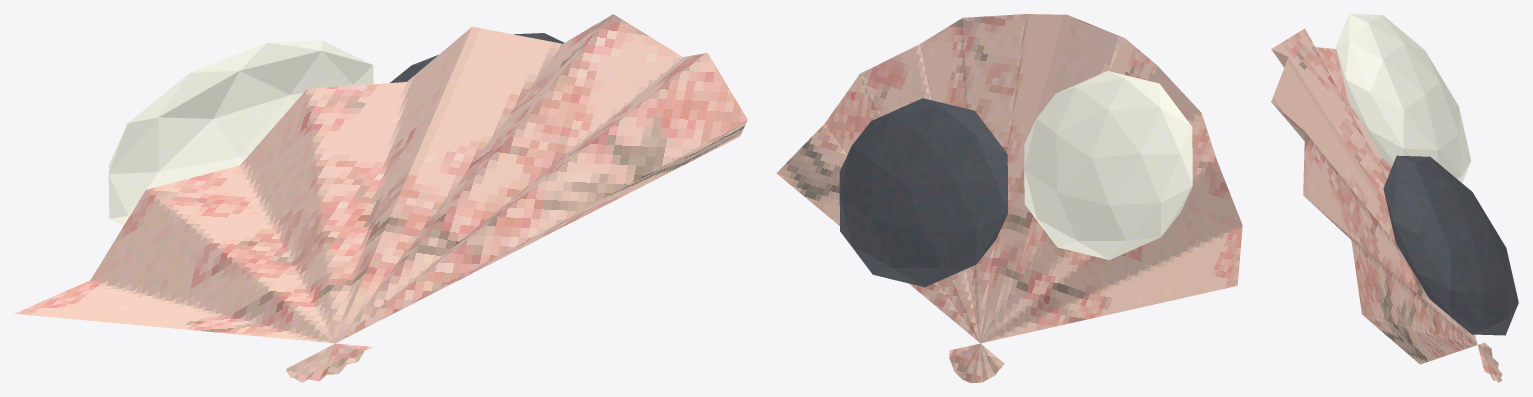
File: ps2_save-icons_saikyounoigo2.glb
3 renders of one model, left to right at view 1: azimuth 30°, elevation 25°; view 2: azimuth 150°, elevation 25°; view 3: azimuth 270°, elevation 25°, orthographic. The views are drawn at different scales.
Visible parts, largest first — view 1: icon1.ico; view 2: icon1.ico; view 3: icon1.ico.
Boxes of the visible parts, x1,y1,x2,y2 form: icon1.ico: [14, 14, 747, 382]; icon1.ico: [776, 14, 1242, 382]; icon1.ico: [1271, 14, 1518, 382].
Size of the model in its own units: 4.29 by 2.64 by 1.84.
Materials: 1 (1 with a texture image).
